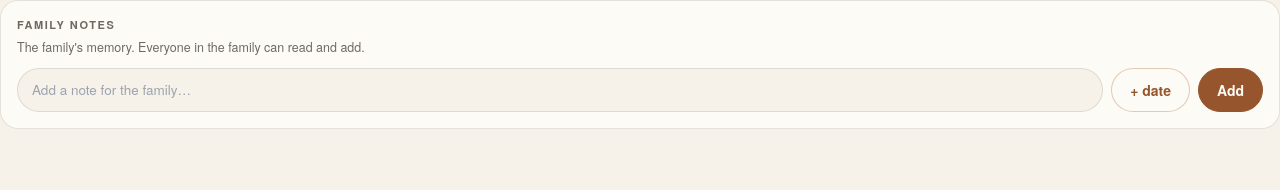
Test case: scoping (spec 009 §4) › remembers the signed-as value for the next note
The width and height of the screenshot is (1280, 190).
Earlier steps of the test are not shown.
Focus the field with test id "note-input": (560, 90) left=17, top=68, right=1103, bottom=112
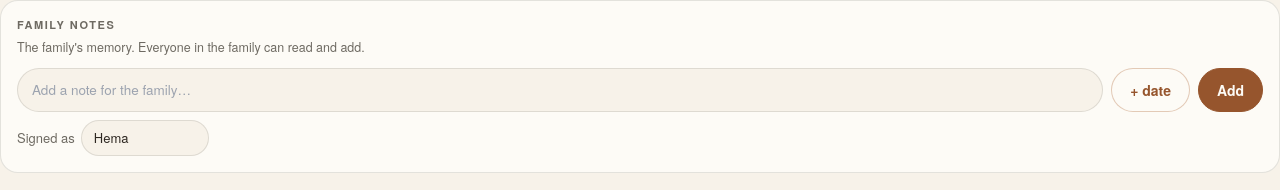
Expected: the field with test id "note-author" holds "Hema", left=81, top=120, right=209, bottom=156
